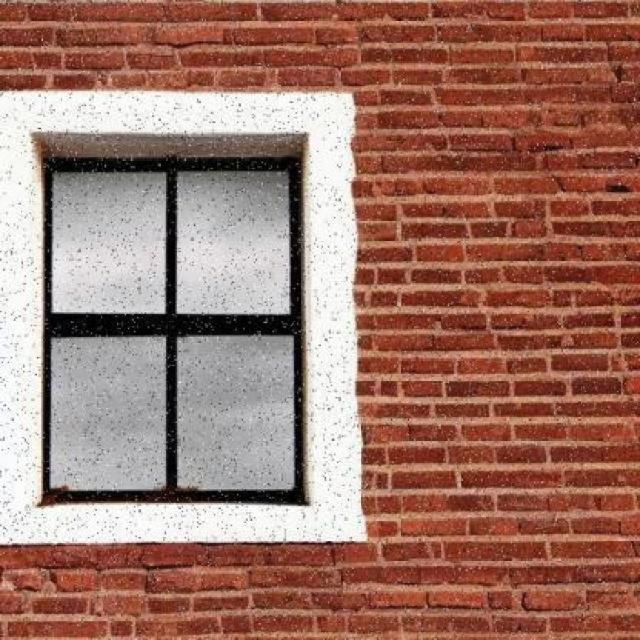window: (41, 152, 307, 503)
